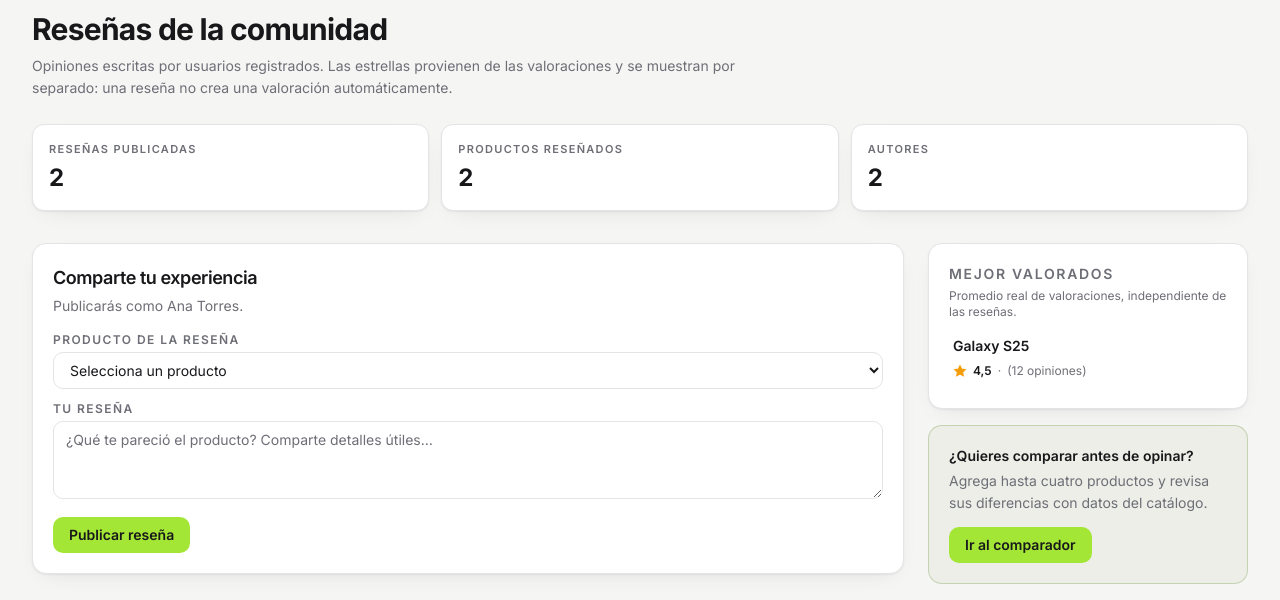
ResenasCliente › publica una reseña con sesión y la agrega al listado
This screenshot has width=1280, height=600.
Select "Galaxy S25" in the dropdown labelled "Producto de la reseña" at {"x": 468, "y": 370}, box [53,352,883,388]
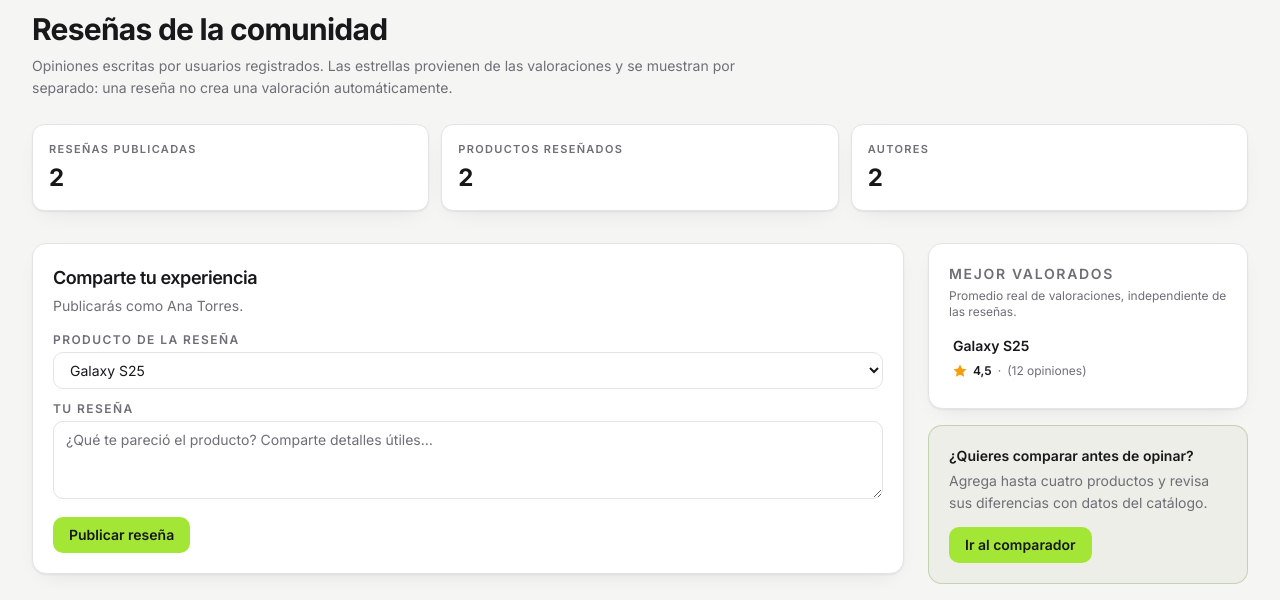
Type "Mi nueva reseña." into the text box labelled "Tu reseña" at {"x": 468, "y": 460}, box [53,420,883,498]
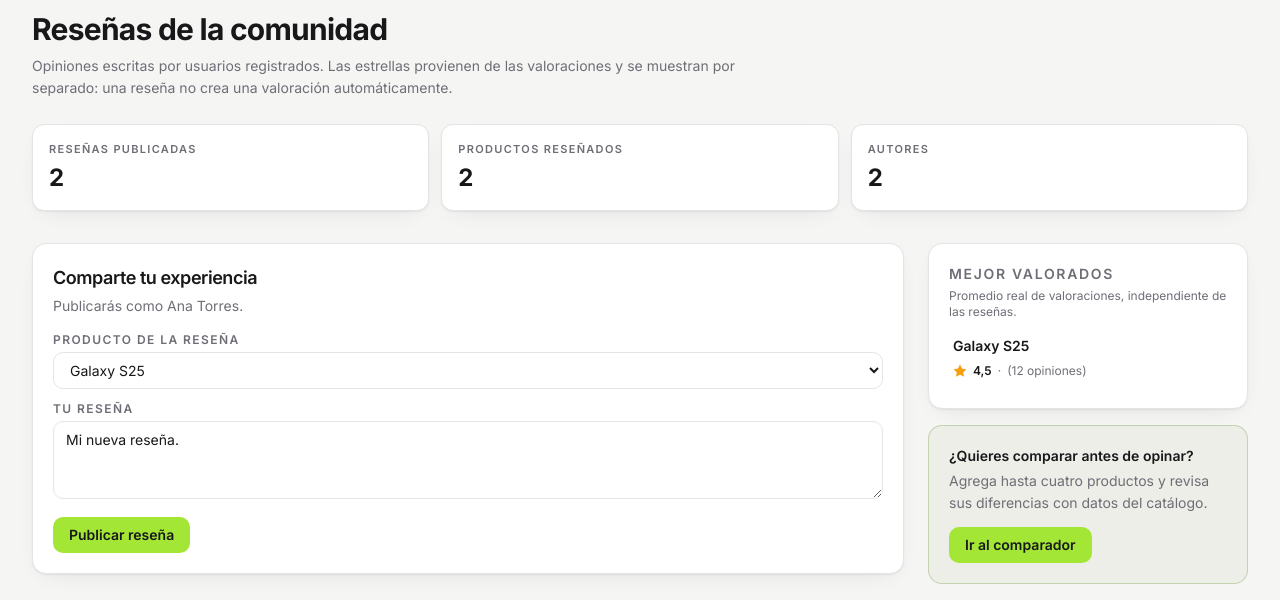
Click the button "Publicar reseña" at {"x": 122, "y": 534}, box [53,516,190,552]
(page scrolled)
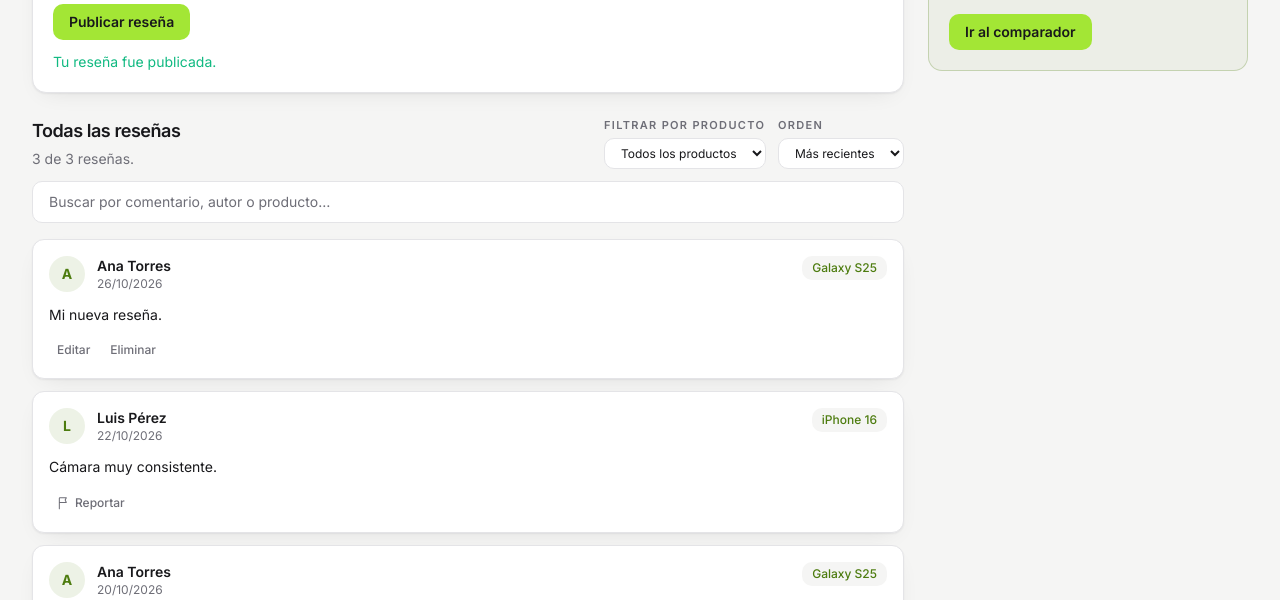
Now the text "Tu reseña fue publicada." is shown, box [53,52,216,70]
Now the text "Mi nueva reseña." is shown, box [49,306,162,322]
